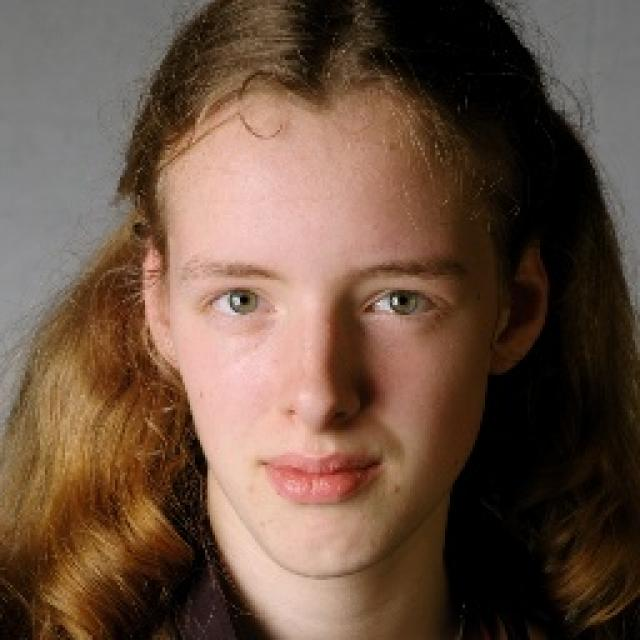earlobe: (488, 238, 551, 375), (142, 234, 185, 372)
